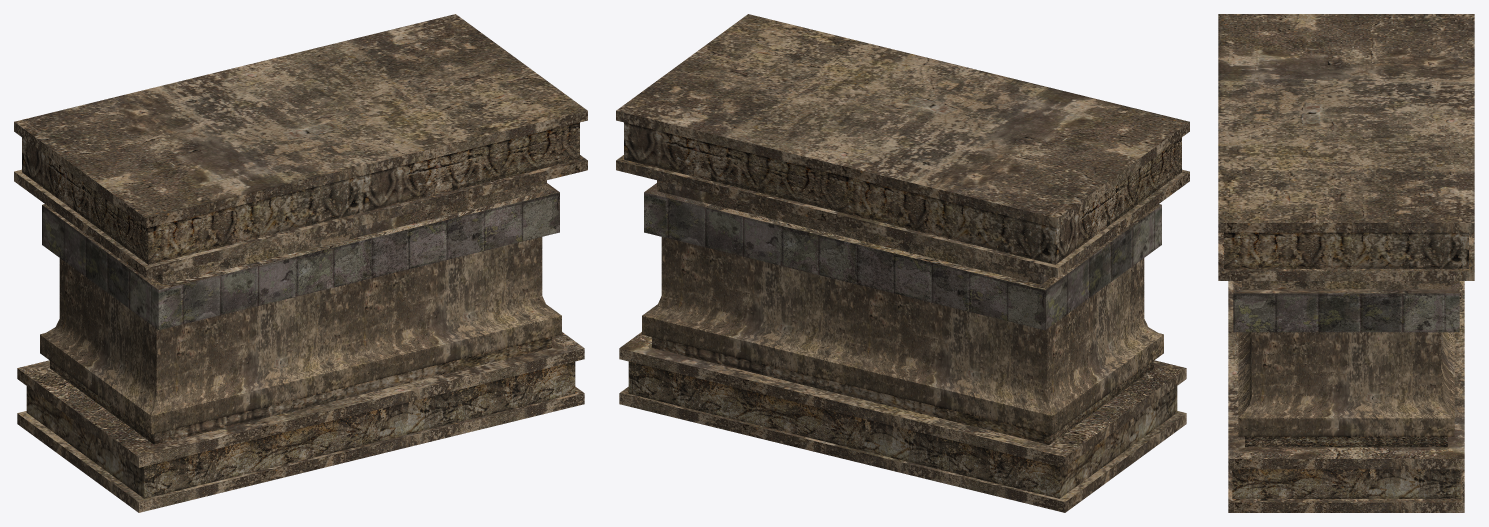
File: materials_5_pedestal_2.fbx
3 renders of one model, left to right at view 1: azimuth 30°, elevation 25°; view 2: azimuth 150°, elevation 25°; view 3: azimuth 270°, elevation 25°, orthographic. The views are drawn at different scales.
Parts seen in each view (by area): view 1: materials_5_pedestal_2; view 2: materials_5_pedestal_2; view 3: materials_5_pedestal_2.
Boxes of the visible parts, left/top/right/bottom form: materials_5_pedestal_2: left=14, top=14, right=587, bottom=512; materials_5_pedestal_2: left=616, top=14, right=1189, bottom=512; materials_5_pedestal_2: left=1218, top=14, right=1474, bottom=512.
Bounding box in the file's own units: 133 × 84.74 × 68.17.
